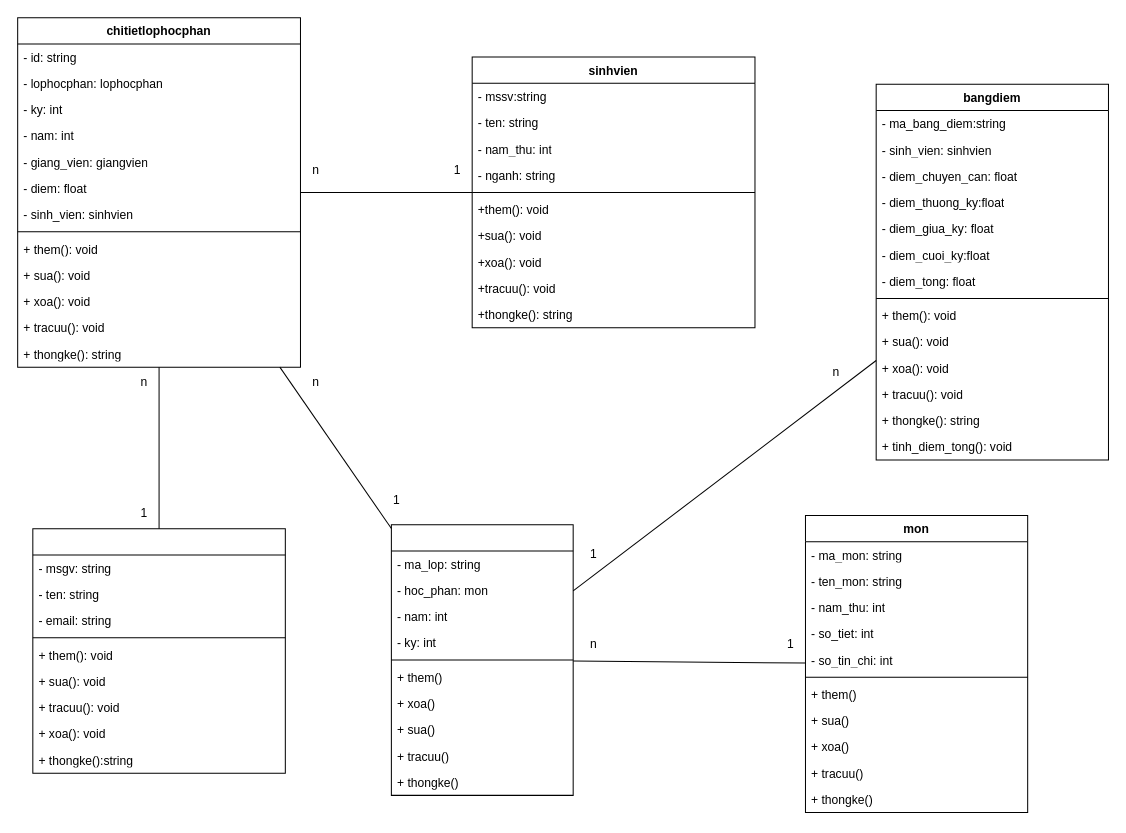
The diagram is 1126 pixels wide and 833 high, and some of its shapes have lost their labels. The box of each missing label's shape, as (x1, y1, x2, y2) in pixels:
giangvien: (32, 528, 285, 773)
lophocphan: (390, 524, 573, 795)
